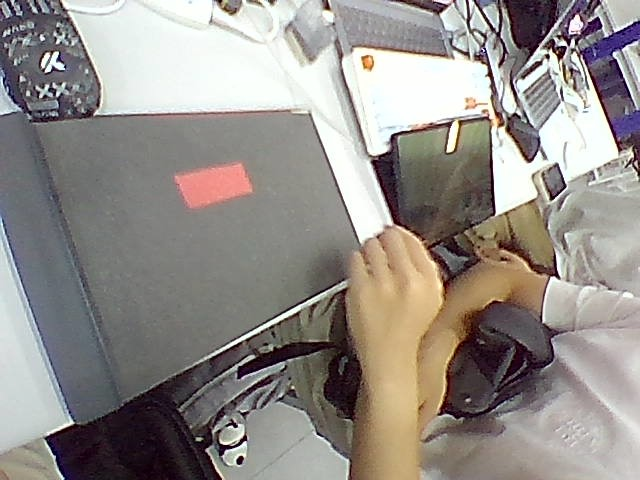card: (175, 162, 252, 208)
